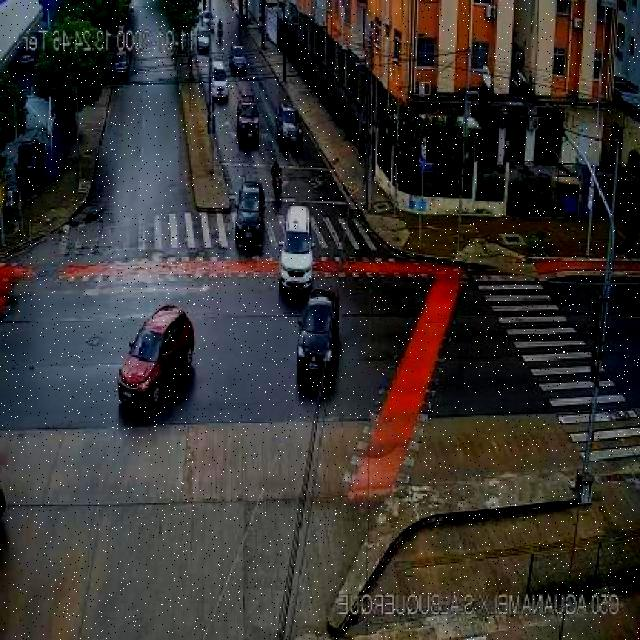Car: (117, 303, 196, 409), (297, 290, 341, 392), (278, 207, 314, 298), (234, 181, 266, 251), (276, 102, 302, 153), (236, 97, 261, 145), (210, 64, 229, 101), (229, 46, 248, 75), (613, 76, 639, 96), (112, 52, 129, 80), (196, 32, 211, 54), (200, 11, 214, 29)
